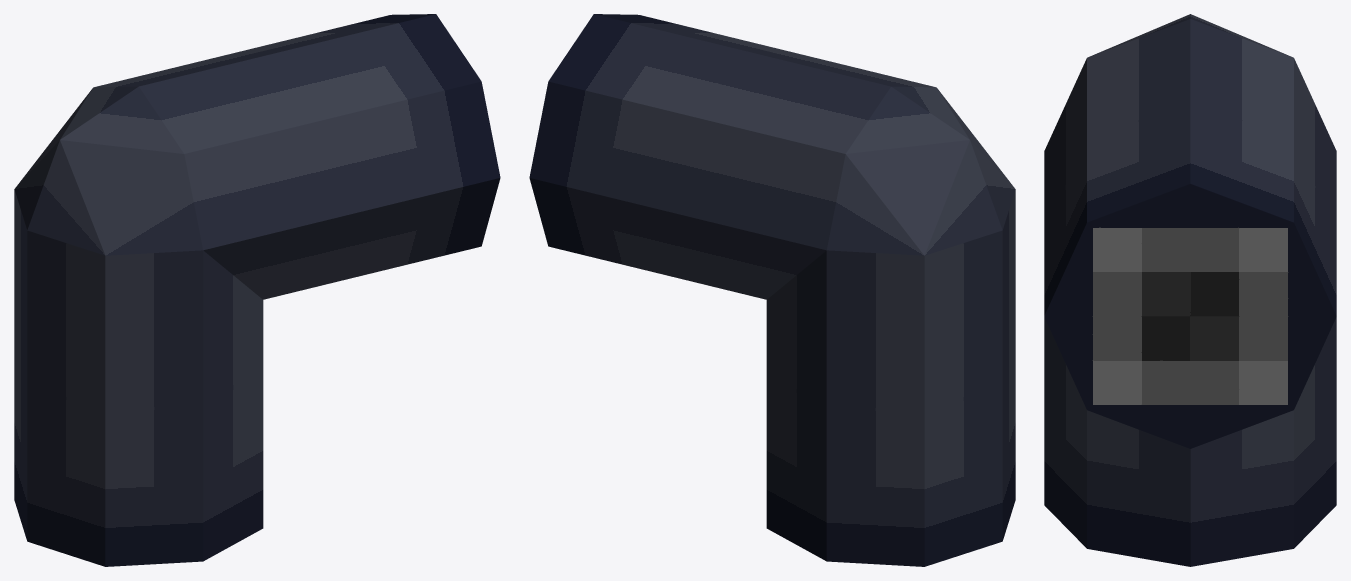
File: neo_36.obj
3 views of the same model, side by side, from view 1: azimuth 30°, elevation 25°; view 2: azimuth 150°, elevation 25°; view 3: azimuth 270°, elevation 25° (orthographic). The views are drawn at different scales.
Visible parts, largest first — view 1: pipe; view 2: pipe; view 3: pipe.
Part boxes in pixels (x1=…): pipe: x1=14, y1=14, x2=500, y2=566; pipe: x1=529, y1=14, x2=1015, y2=566; pipe: x1=1044, y1=14, x2=1336, y2=566.
Bounding box in the file's own units: 0.6875 × 0.6875 × 0.375.
